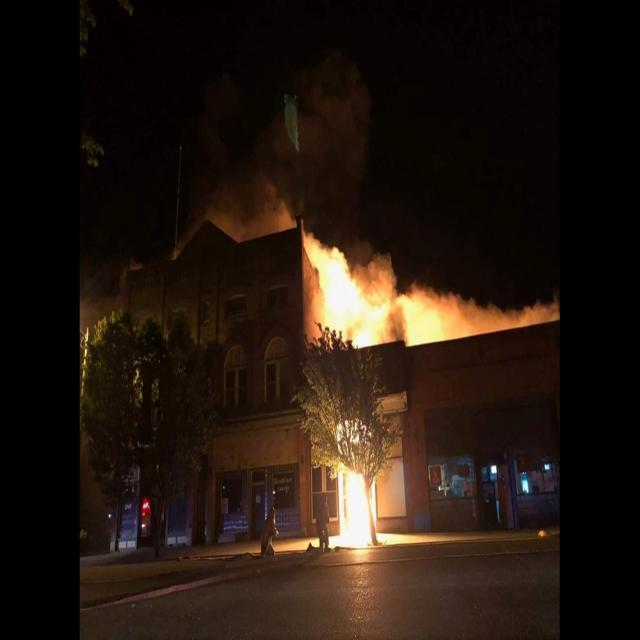Fire: (302, 225, 395, 350), (336, 424, 376, 546)
Smoke: (273, 49, 373, 230), (396, 280, 558, 347), (208, 185, 300, 247)
